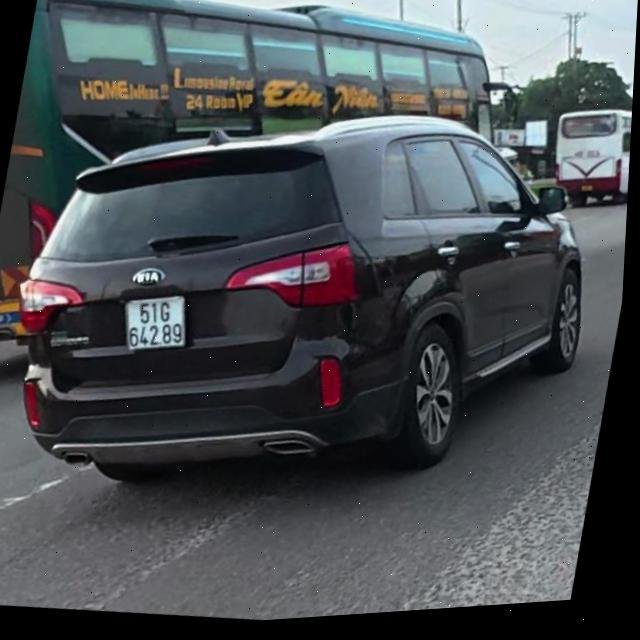car: (0, 57, 622, 543)
plate: (106, 281, 199, 361)
